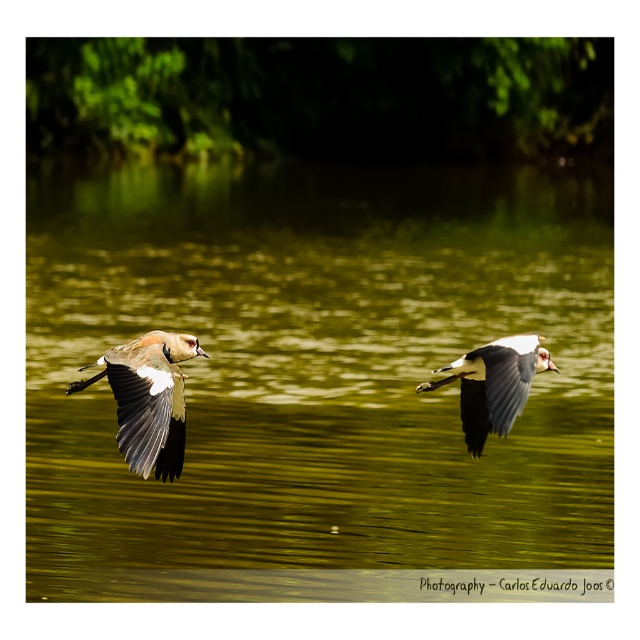Duck: (66, 331, 205, 478), (414, 330, 564, 461)
